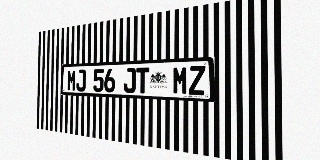5: (93, 69, 104, 92)
6: (104, 68, 115, 92)
J: (123, 68, 136, 93), (76, 69, 86, 91)
M: (173, 66, 188, 95), (67, 70, 76, 91)
T: (136, 67, 149, 93)
Z: (189, 65, 205, 95)
